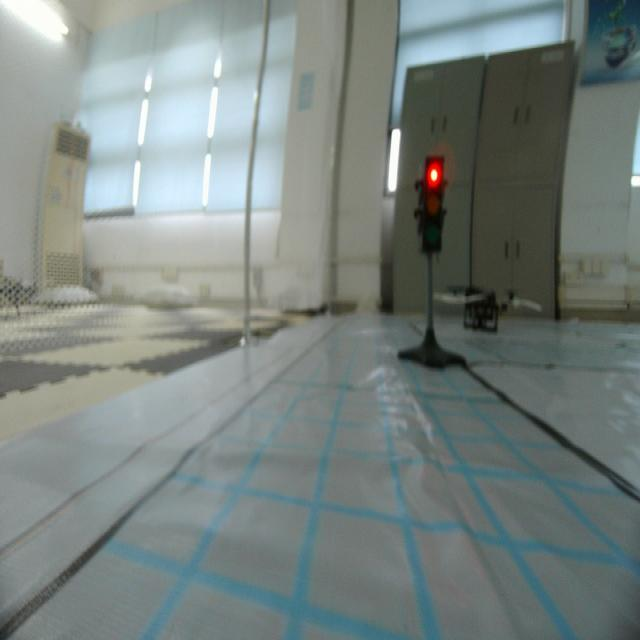red: (413, 152, 451, 261)
